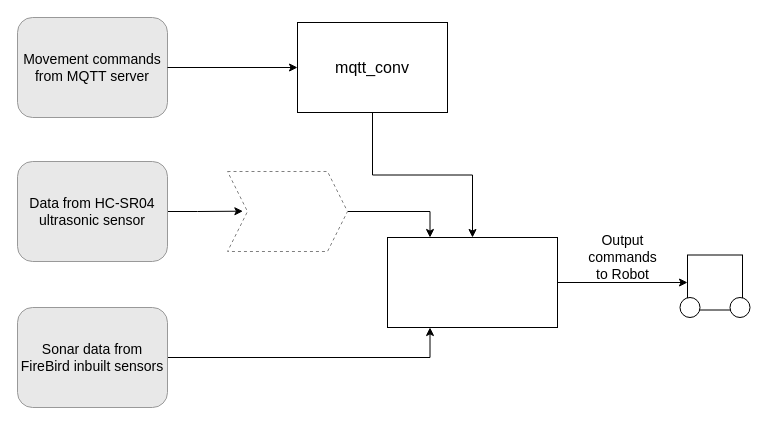
This 768x425 diagram has some shape labels left out. The shapes that lost their labels are listed below. From the top down, each one's box as (x1, y1, x2, y2) in pixels, then its label:
(226, 170, 348, 252): Interfacing via arduino uno and rosserial
(386, 236, 558, 328): cliff_detect
